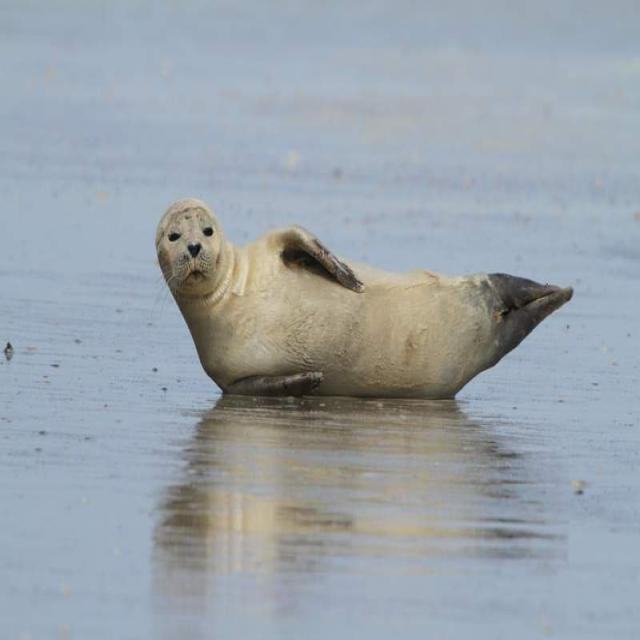seal: (155, 199, 573, 397)
